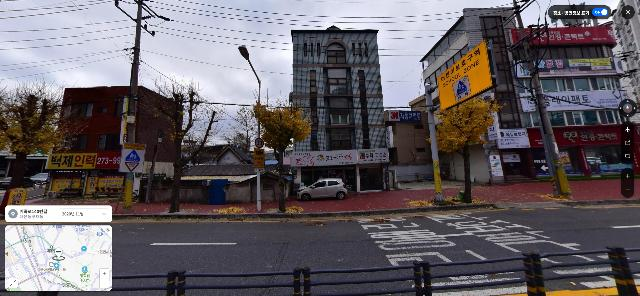ginkgo: (135, 72, 226, 212), (1, 75, 76, 206), (427, 96, 509, 202), (253, 88, 312, 211)
other: (225, 104, 264, 163)
